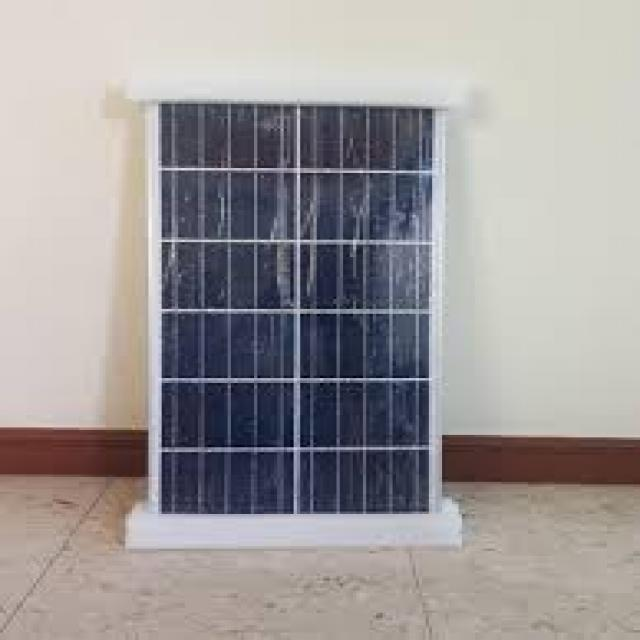faulty: (140, 98, 448, 512)
